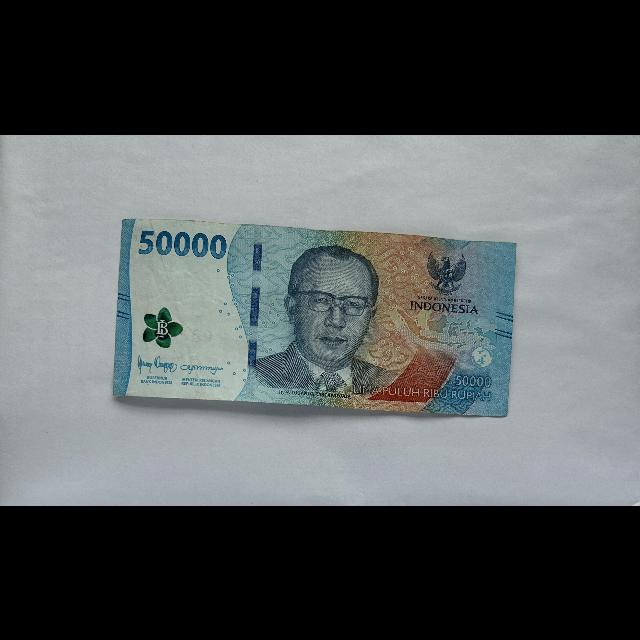Asli-50k: (109, 215, 521, 420)
Tinta-Asli-50k: (142, 304, 184, 348)
